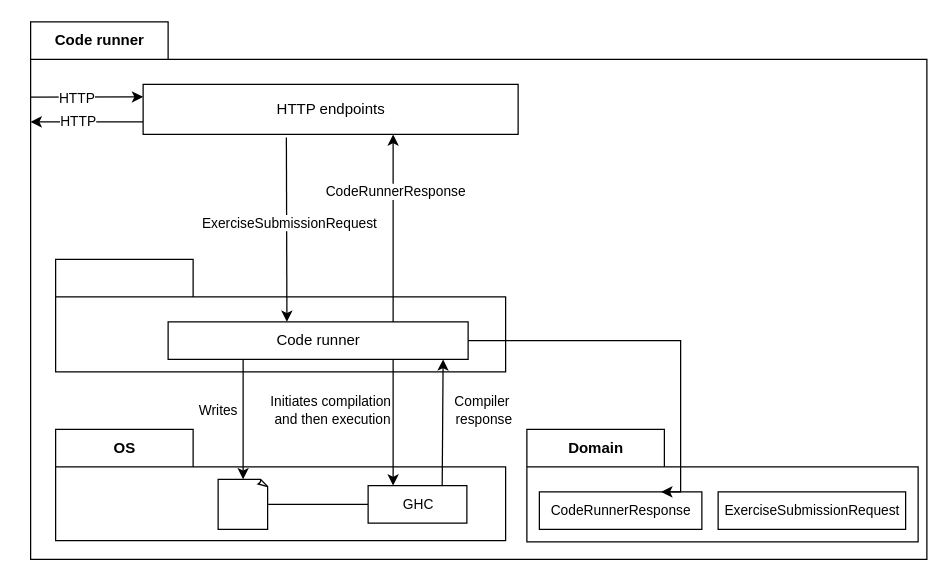
The diagram is 949 pixels wide and 581 high, and some of its shapes have lost their labels. Here are the shapes that lost their labels. From the top down, the centre of each, then its label:
At pixel 280 315: "Services".
At pixel 242 503: ".hs".
